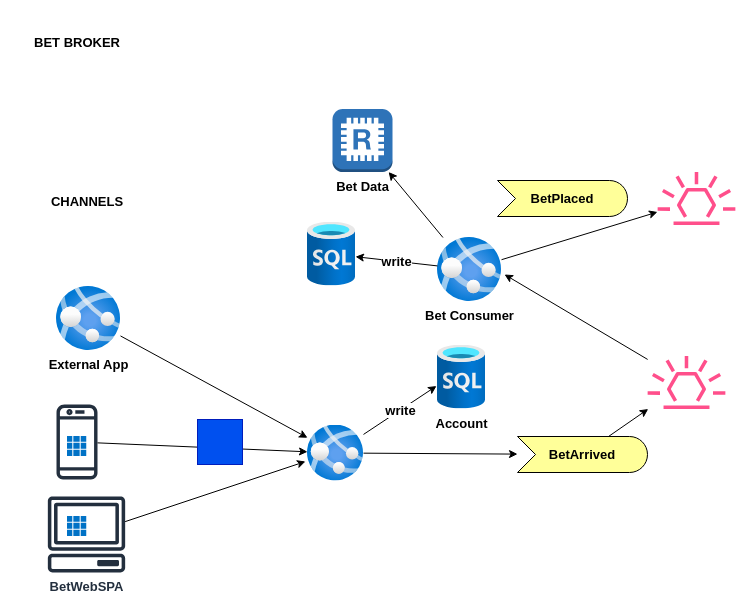
This 752x612 diagram has some shape labels left out. The box of each missing label's shape, as (x1, y1, x2, y2) in pixels:
BetSlip: (307, 222, 355, 286)
Broker Api: (307, 424, 363, 480)
Place BetSlip: (196, 418, 242, 464)
